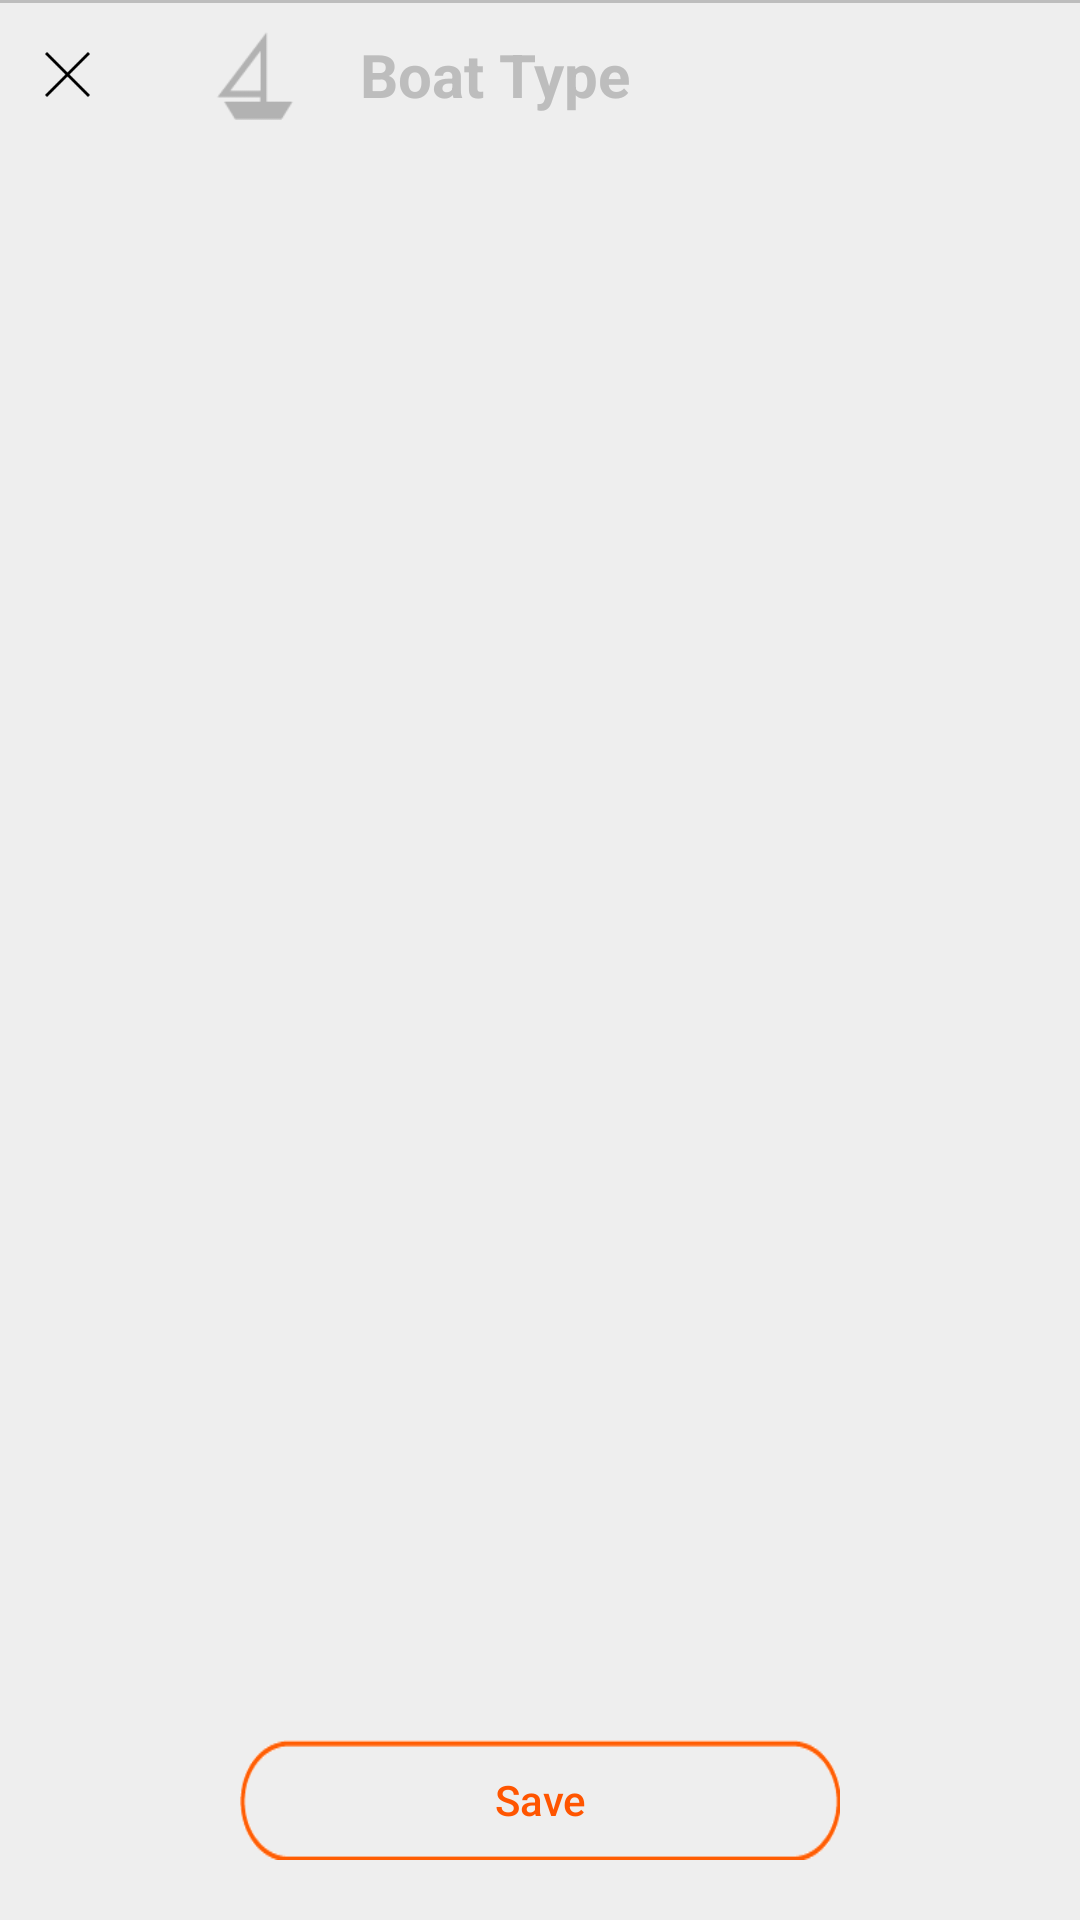

Icon bounding boxes for this 1080x1920 phone screenshot, format (x1, y1, x2, y2):
cross: (45, 52, 90, 97)
